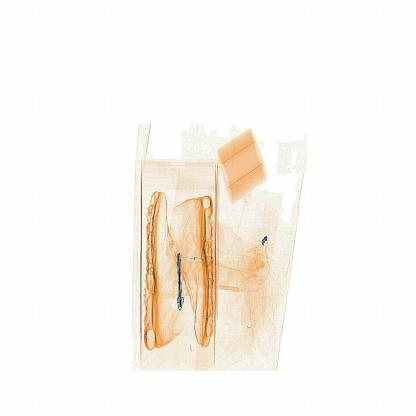knife: (175, 251, 187, 314)
